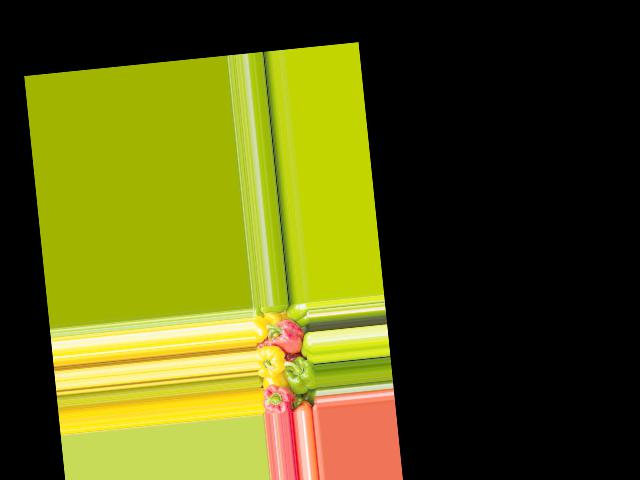bell_pepper: (260, 378, 296, 414)
